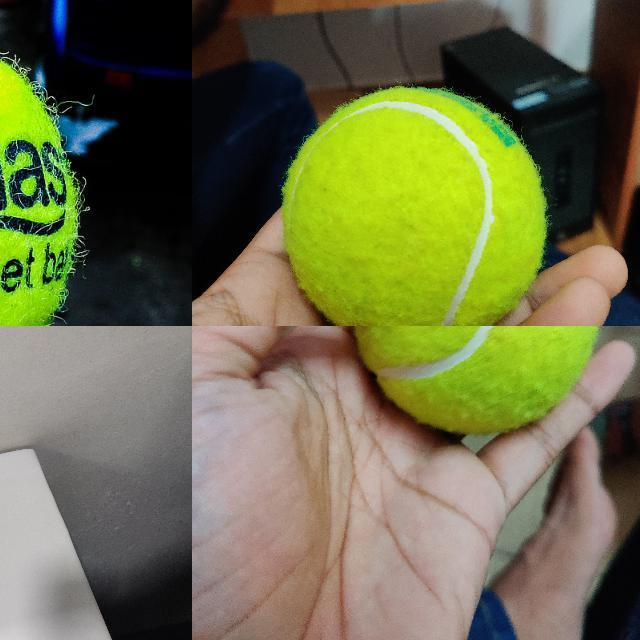tennis-ball: (281, 88, 546, 325), (0, 0, 81, 325), (353, 326, 599, 431)
